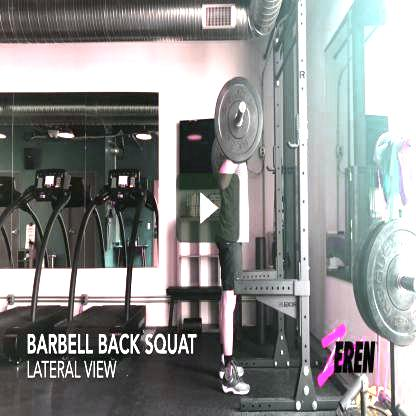Barbell: (238, 101, 247, 115)
